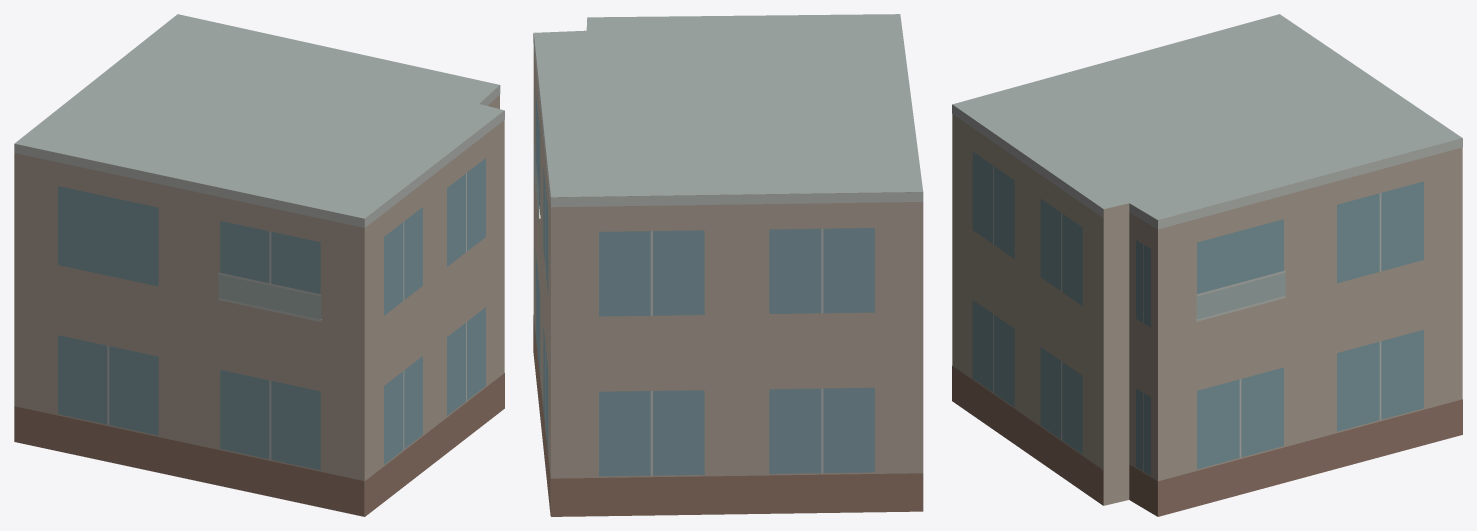
The model's file is survey-upis-32625537.glb.
The picture shows the model from 3 angles, left to right: view 1: azimuth 30°, elevation 25°; view 2: azimuth 150°, elevation 25°; view 3: azimuth 270°, elevation 25°; orthographic projection. The views are drawn at different scales.
Parts seen in each view (by area): view 1: survey-upis-32625537.tmp; view 2: survey-upis-32625537.tmp; view 3: survey-upis-32625537.tmp.
Part boxes in pixels (<box>): survey-upis-32625537.tmp: <box>14,14,504,516</box>; survey-upis-32625537.tmp: <box>533,14,923,516</box>; survey-upis-32625537.tmp: <box>952,14,1462,516</box>.
Size of the model in its own units: 11.63 by 7.8 by 12.18.
